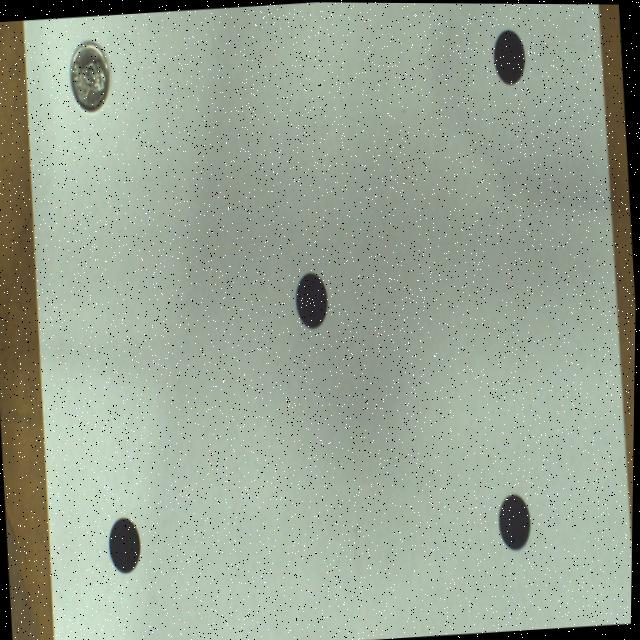head1bath: (70, 43, 110, 110)
space: (296, 272, 329, 328), (493, 28, 525, 83), (500, 494, 532, 549), (110, 517, 142, 572)
